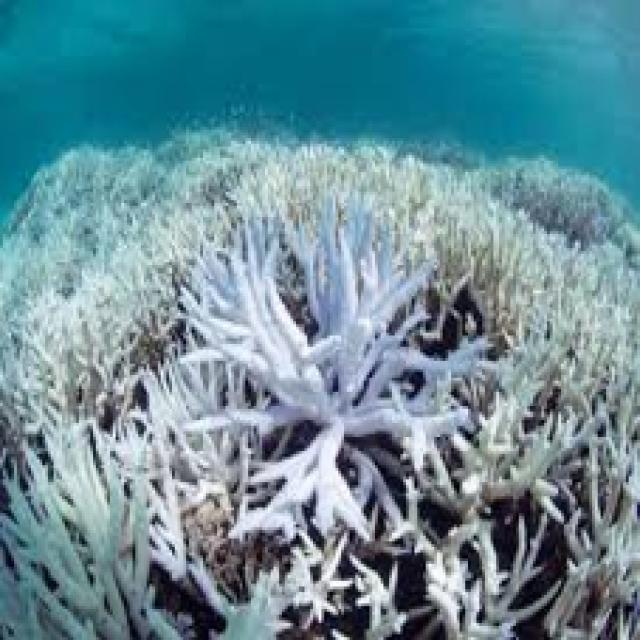Bleached: (181, 198, 475, 537), (463, 210, 638, 638), (235, 145, 554, 311), (1, 148, 196, 407), (4, 427, 176, 638), (97, 368, 232, 599), (331, 446, 365, 531)
